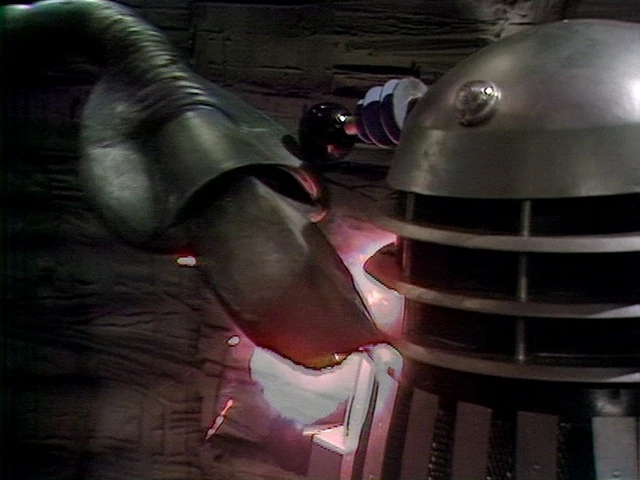Dalek: (359, 4, 640, 480)
